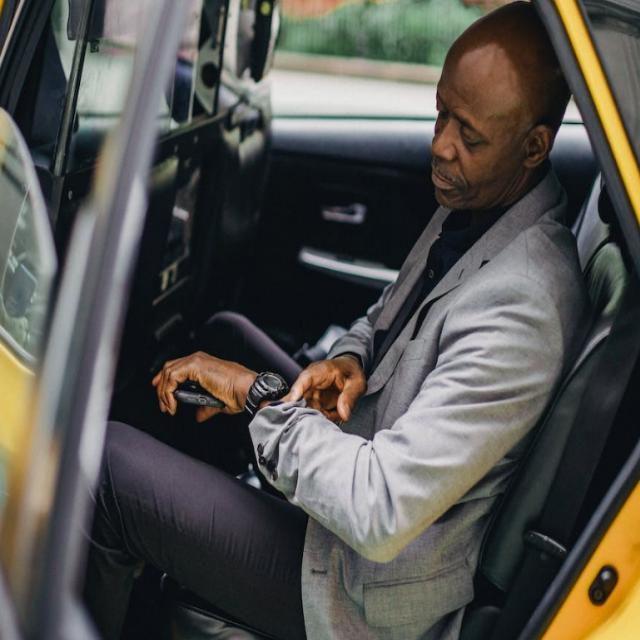Watch: (238, 364, 292, 420)
